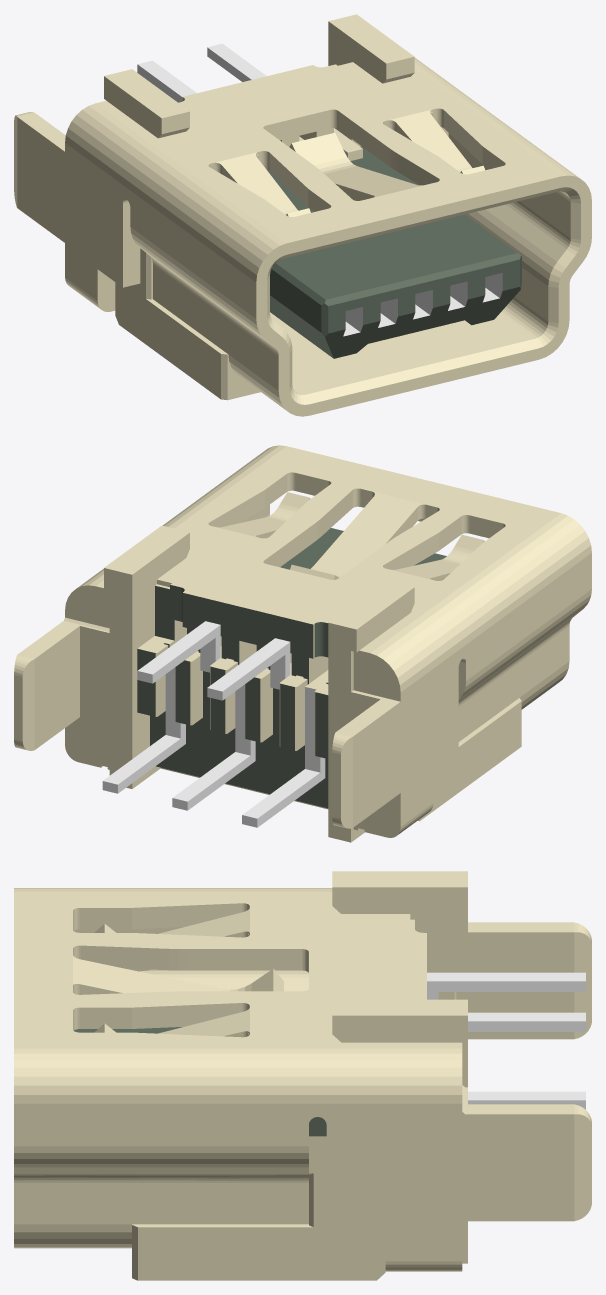
The model's file is Mini-B USB Vertical.obj.
3 views of the same model, one above another, from view 1: azimuth 30°, elevation 25°; view 2: azimuth 150°, elevation 25°; view 3: azimuth 270°, elevation 25° (orthographic). The views are drawn at different scales.
Visible parts, largest first — view 1: Mini-B_USB_Vertical; view 2: Mini-B_USB_Vertical; view 3: Mini-B_USB_Vertical.
Part boxes in pixels (<box>): Mini-B_USB_Vertical: <box>14,14,591,416</box>; Mini-B_USB_Vertical: <box>14,445,591,842</box>; Mini-B_USB_Vertical: <box>14,871,591,1280</box>.
Bounding box in the file's own units: 0.0154 × 0.00941 × 0.0196.
